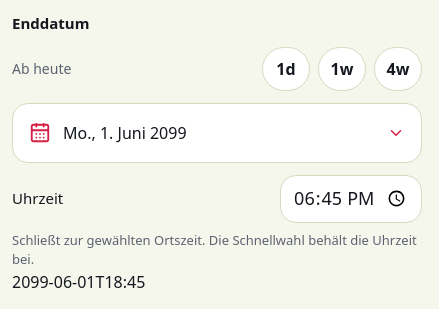
Scenario: EndDatePicker › chooses 7 calendar days from today while retaining local time
Click the button "1w". click: click(342, 68)
box: [318,46,366,90]
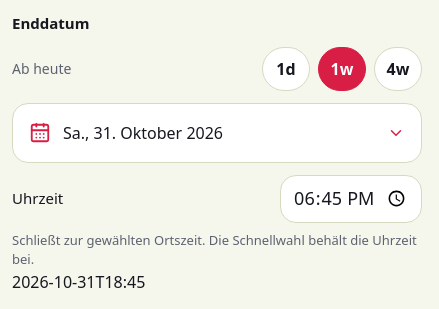
A second shortcut is still relative to today, not the previously selected date.
Click the button "1d". click: click(286, 68)
box: [262,46,310,90]
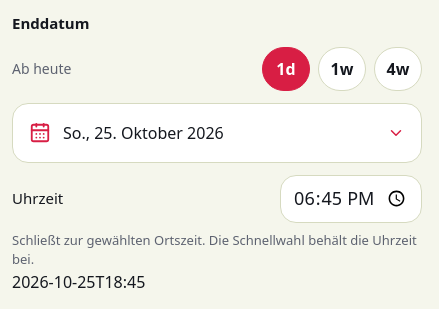
expect the text named "Stored deadline" reads "2026-10-25T18:45": met, box [12,270,145,292]
